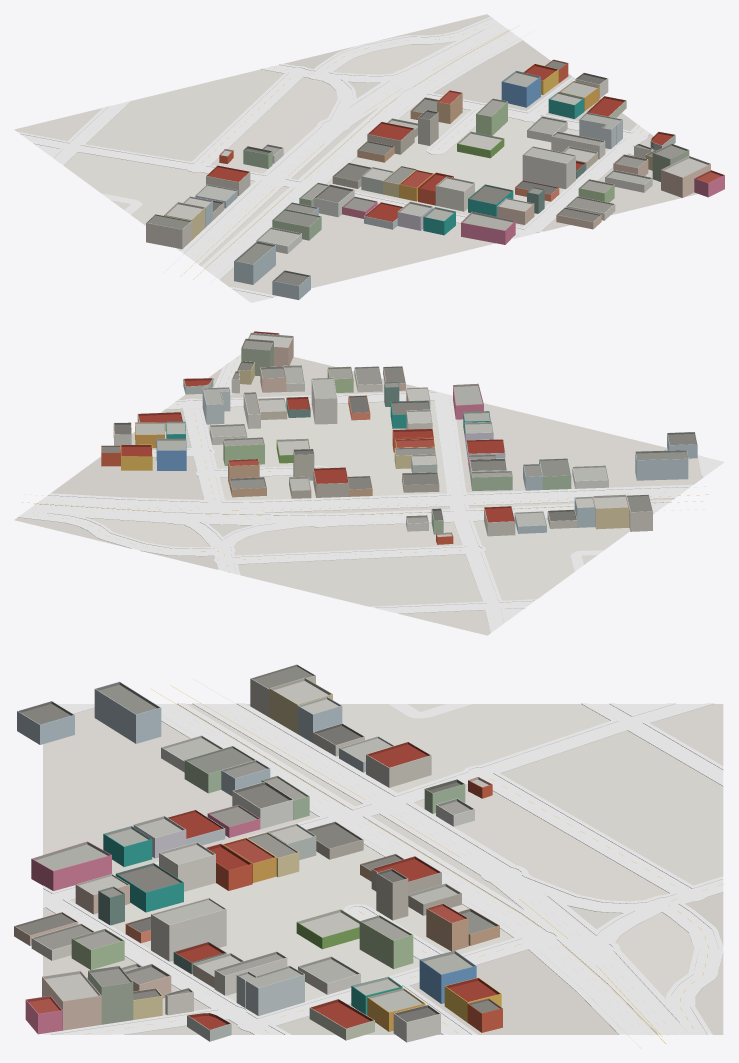
3 views of the same model, one above another, from view 1: azimuth 30°, elevation 25°; view 2: azimuth 150°, elevation 25°; view 3: azimuth 270°, elevation 25° (orthographic). The views are drawn at different scales.
Visible parts, largest first — view 1: ground, walls, asphalt, roofs, sidewalk, markings; view 2: ground, roofs, asphalt, walls, sidewalk, markings; view 3: ground, walls, asphalt, roofs, sidewalk, markings.
Boxes of the visible parts, left/top/right/bottom form: ground: left=14, top=14, right=697, bottom=294; walls: left=146, top=63, right=724, bottom=299; asphalt: left=20, top=18, right=647, bottom=277; roofs: left=146, top=59, right=724, bottom=286; sidewalk: left=18, top=16, right=650, bottom=302; markings: left=163, top=24, right=642, bottom=282; ground: left=14, top=356, right=702, bottom=635; roofs: left=101, top=331, right=697, bottom=537; asphalt: left=20, top=354, right=690, bottom=630; walls: left=101, top=334, right=697, bottom=544; sidewalk: left=18, top=363, right=724, bottom=632; markings: left=21, top=357, right=708, bottom=572; ground: left=43, top=704, right=723, bottom=1034; walls: left=14, top=675, right=502, bottom=1042; asphalt: left=43, top=704, right=723, bottom=1034; roofs: left=14, top=664, right=502, bottom=1030; sidewalk: left=43, top=703, right=723, bottom=1034; markings: left=62, top=679, right=722, bottom=1048.
Size of what is drawn, in the model's own units: 279 by 13.31 by 227.
